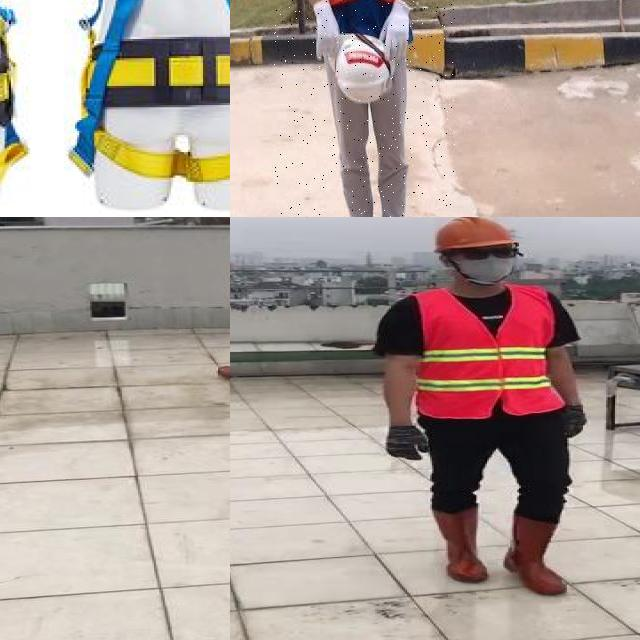Harness: (77, 0, 230, 190)
boots: (503, 511, 569, 595), (427, 505, 494, 584)
face_mask: (457, 240, 521, 281)
glasses: (457, 243, 524, 264)
hand_glove: (382, 424, 430, 463), (558, 402, 590, 440)
head_helmet: (327, 34, 396, 105), (425, 217, 521, 253)
person: (364, 217, 595, 600), (274, 0, 455, 217)
vest: (406, 287, 564, 416), (309, 0, 414, 46)
